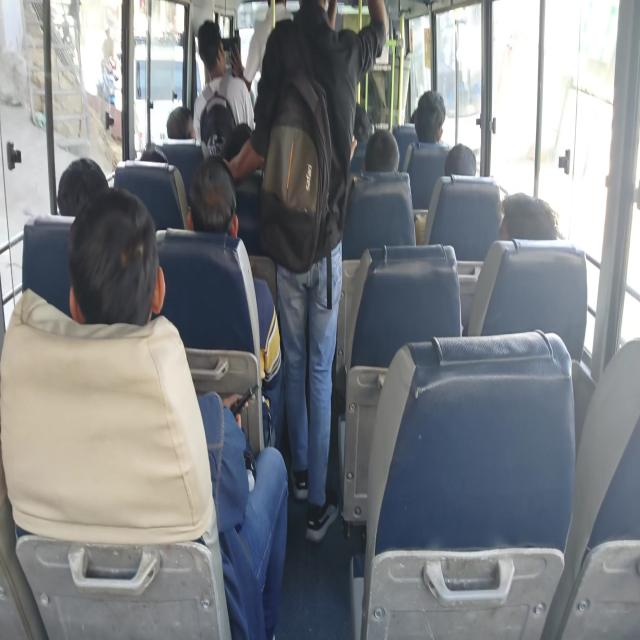person: (275, 0, 367, 210), (74, 194, 154, 361), (188, 164, 249, 260), (51, 164, 121, 247), (508, 185, 558, 272), (244, 1, 292, 85), (198, 24, 238, 120), (448, 139, 499, 203), (352, 126, 406, 182), (413, 96, 448, 157), (170, 96, 210, 145), (138, 146, 167, 181), (405, 96, 430, 134), (233, 128, 252, 144)
